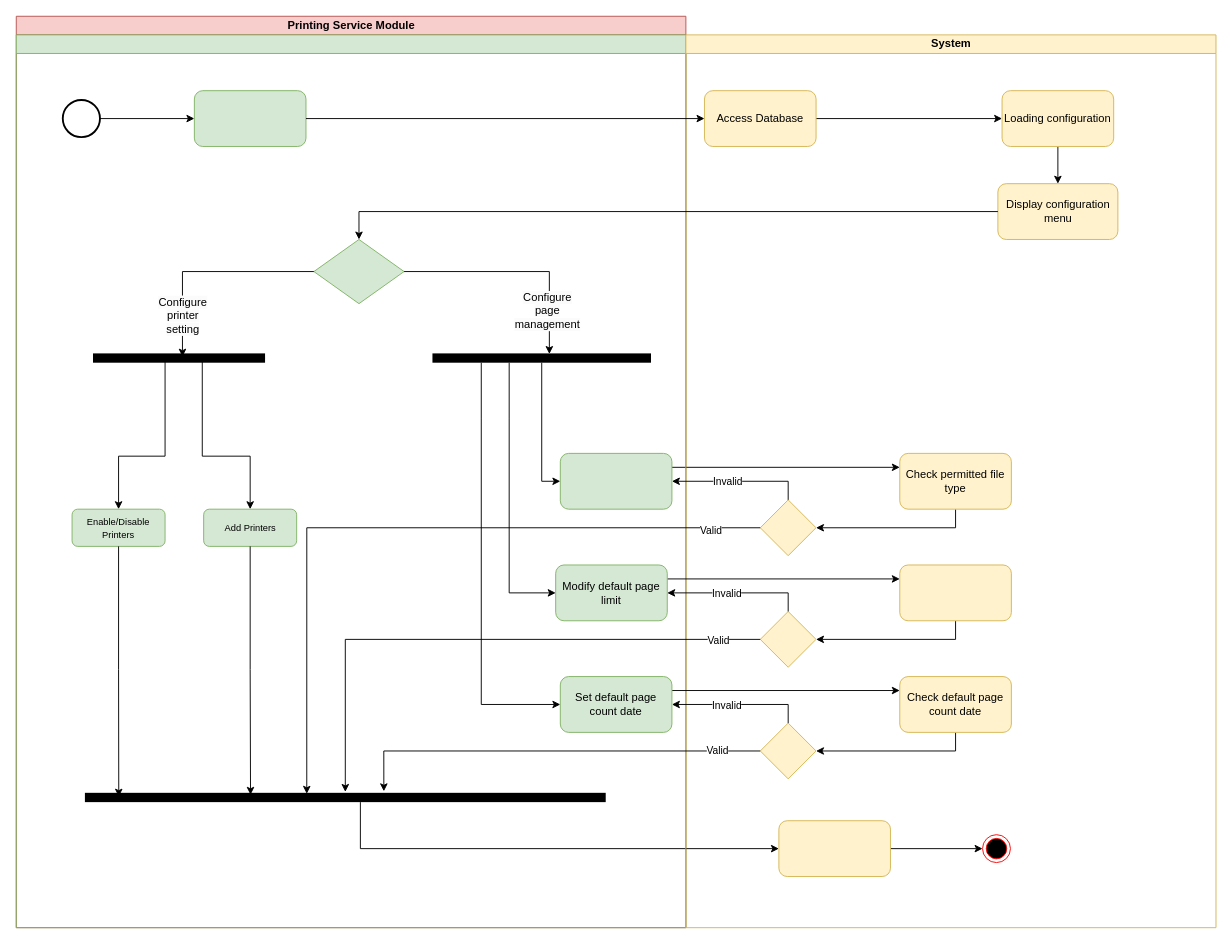
This 1232x944 diagram has some shape labels left out. Each missing label, with the box of its shape:
Check default page limit: (899, 564, 1011, 621)
Click on printer configurations: (193, 90, 306, 146)
Modify permitted file type: (559, 452, 672, 509)
SPSO: (15, 34, 686, 928)
Write configuration to database: (778, 820, 890, 877)
